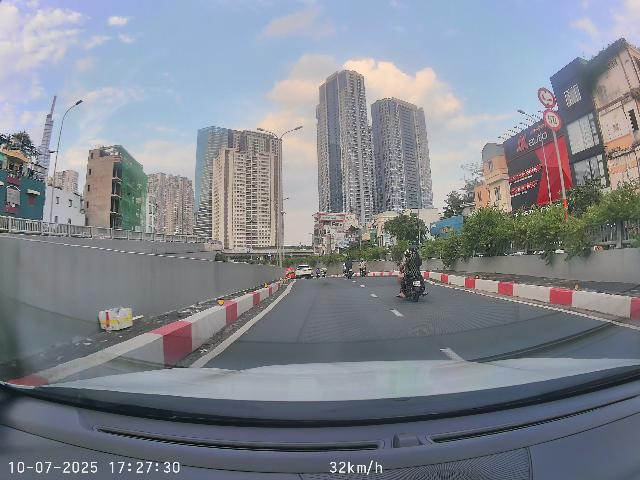127-toc-do-toi-da-50: (543, 109, 562, 131)
